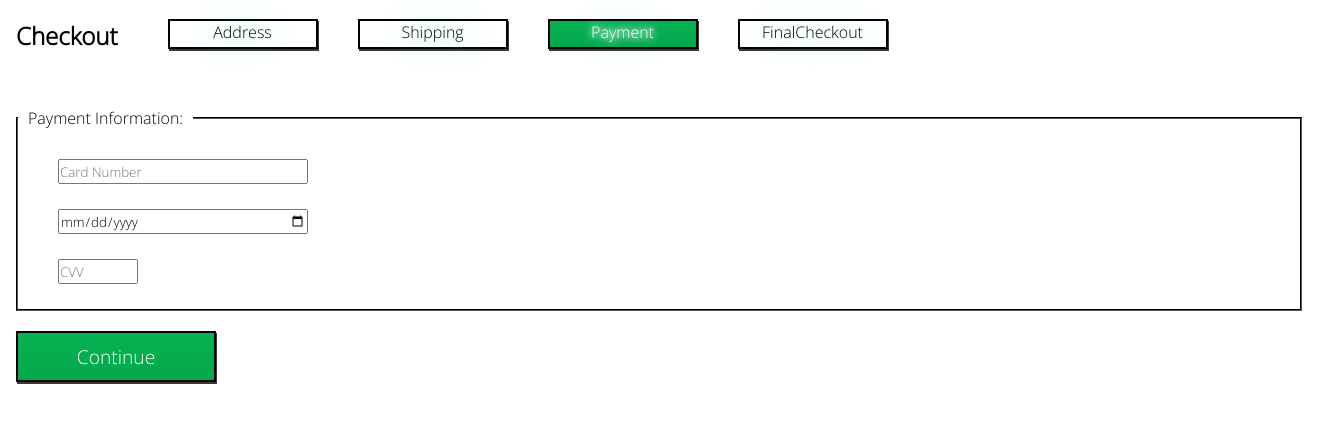
Test: Company Component › Length of card number is less than 16
Type "123456" into the number field with test id "myCardNumber".
click(183, 172); type("123456")  # box [58,159,308,184]
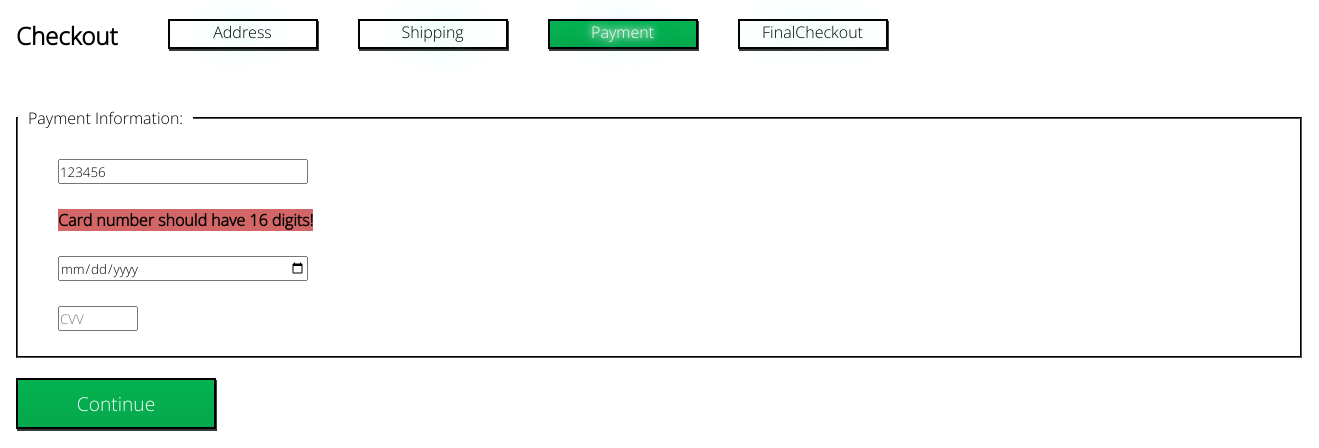
Expected: the text "Card number should have 16 digits!" is shown, [58,209,313,231]
